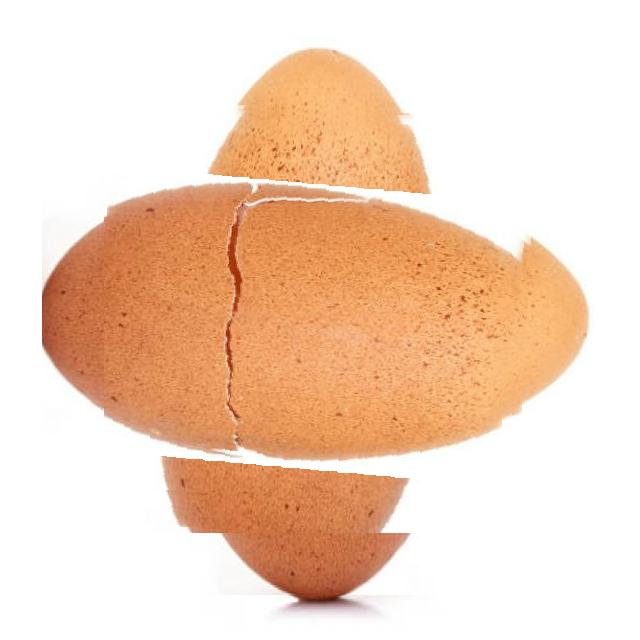biodegradable: (104, 104, 532, 533)
